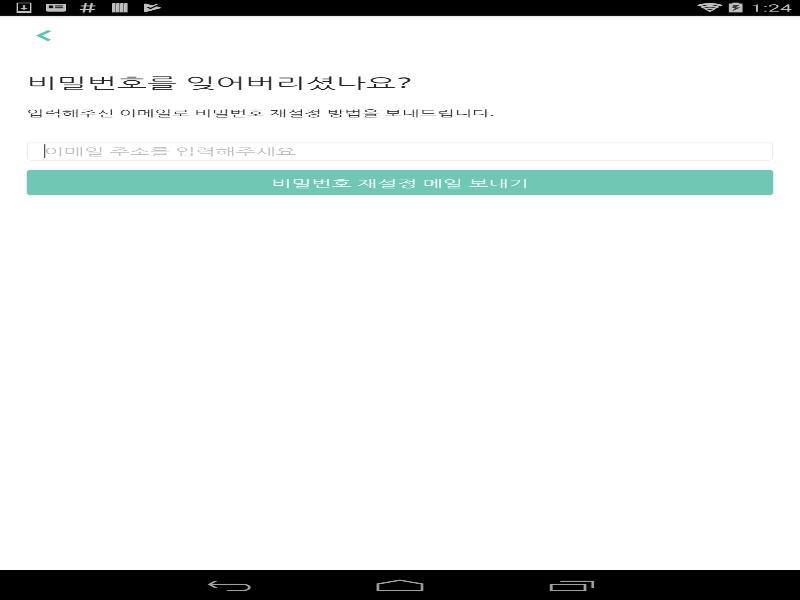Button: (26, 170, 773, 195), (8, 15, 82, 55)
Input: (26, 141, 773, 160)
